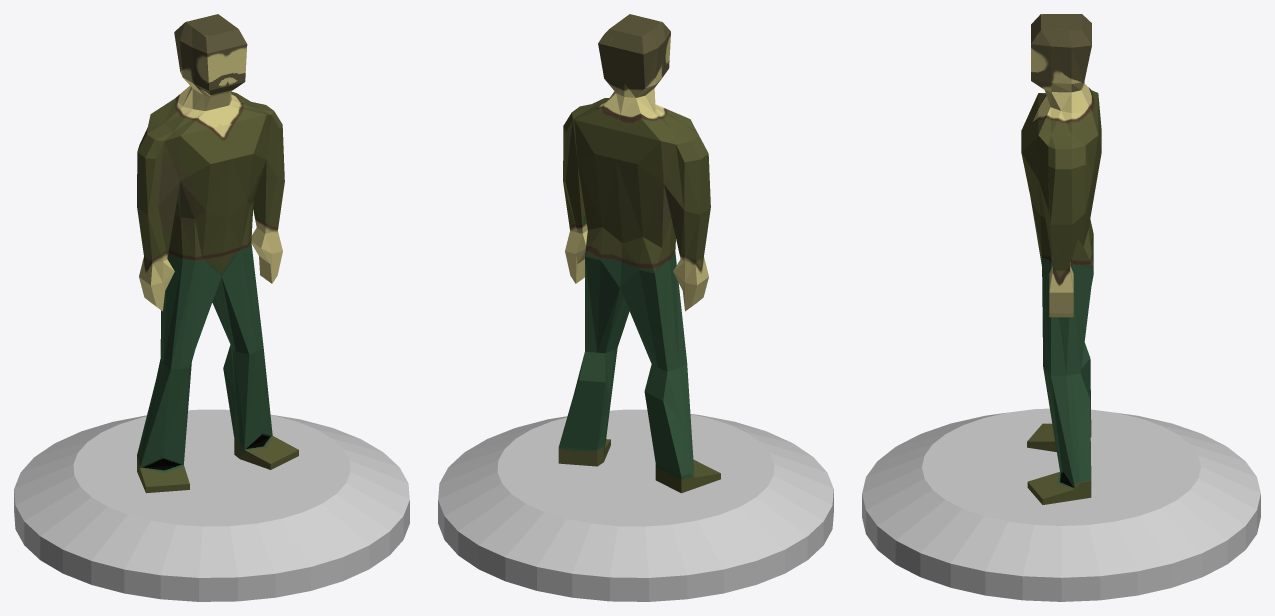
Rendered from unit_test_textured_8.dae.
3 renders of one model, left to right at view 1: azimuth 30°, elevation 25°; view 2: azimuth 150°, elevation 25°; view 3: azimuth 270°, elevation 25°, orthographic.
Parts seen in each view (by area): view 1: Cylinder, Cube; view 2: Cylinder, Cube; view 3: Cylinder, Cube.
Boxes of the visible parts, box(x1,y1,x2,y2) form: Cylinder: box(14, 409, 409, 601); Cube: box(137, 14, 298, 493); Cylinder: box(438, 409, 833, 601); Cube: box(558, 14, 720, 493); Cylinder: box(862, 408, 1260, 601); Cube: box(1021, 14, 1101, 504).
Bounding box in the file's own units: 2 × 2 × 2.74.
